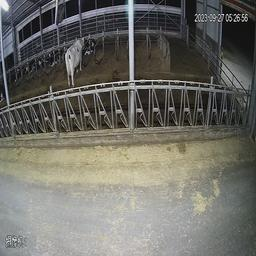cow: (63, 31, 87, 88), (48, 43, 61, 67), (34, 49, 47, 71), (88, 36, 100, 58), (22, 53, 33, 76)
